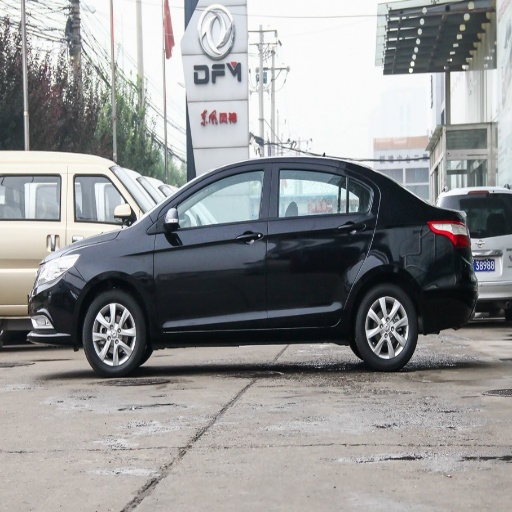back_left_door: (268, 162, 374, 325)
front_left_door: (154, 163, 270, 327)
